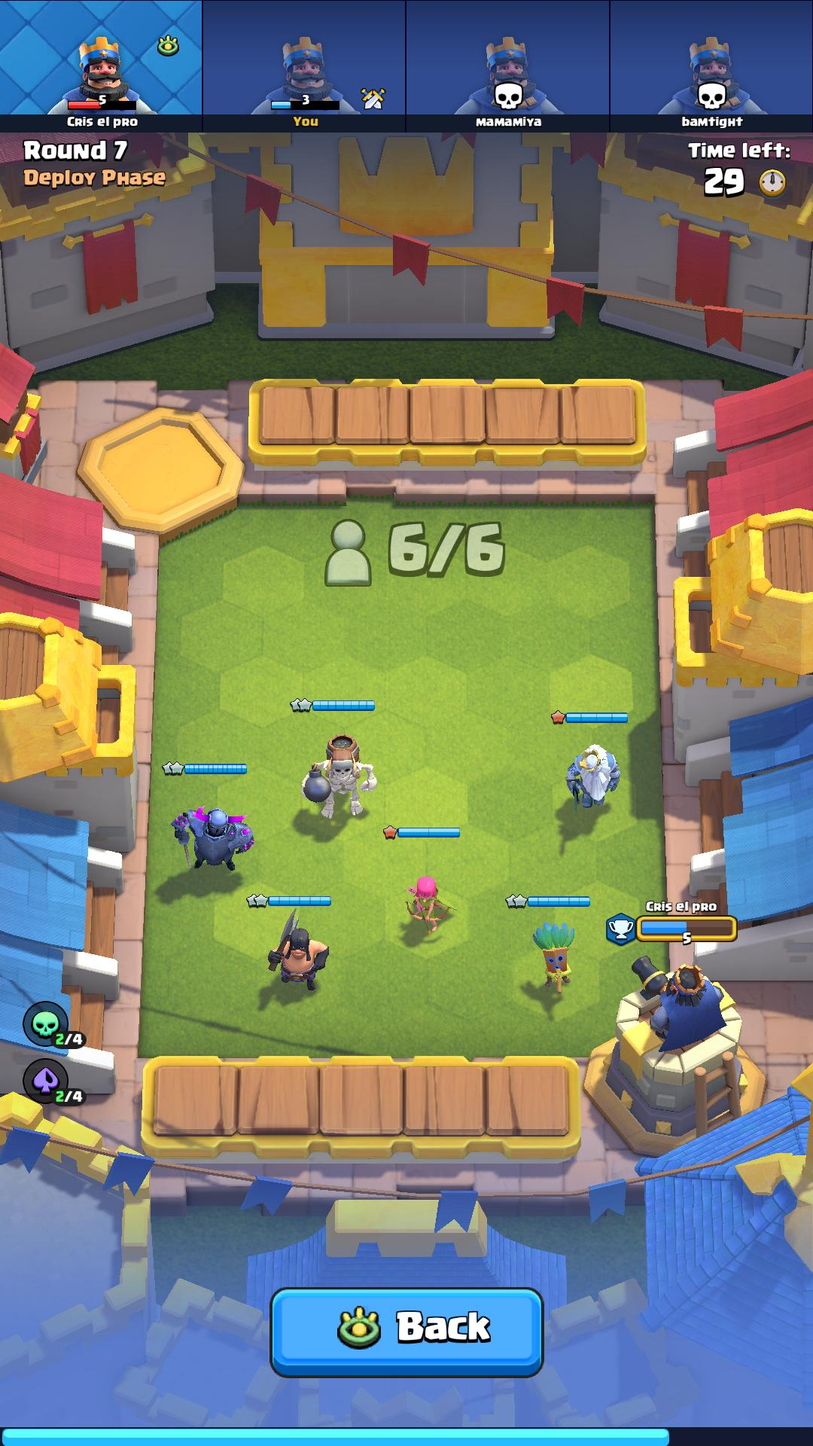archer: (399, 872, 448, 937)
dart: (528, 920, 587, 995)
executioner: (266, 912, 335, 993)
ghost: (556, 739, 629, 814)
giant: (297, 732, 378, 823)
pekka: (167, 802, 256, 874)
